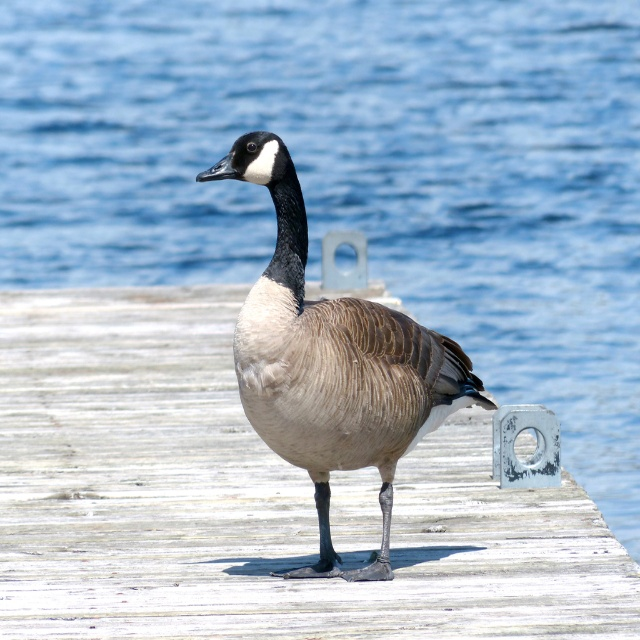Goose: (182, 140, 499, 605)
